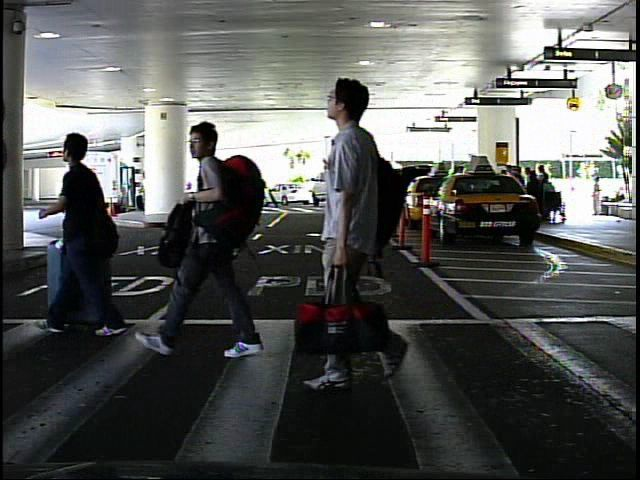person: (289, 66, 414, 396), (139, 104, 254, 367), (34, 114, 126, 353), (588, 174, 607, 219)
